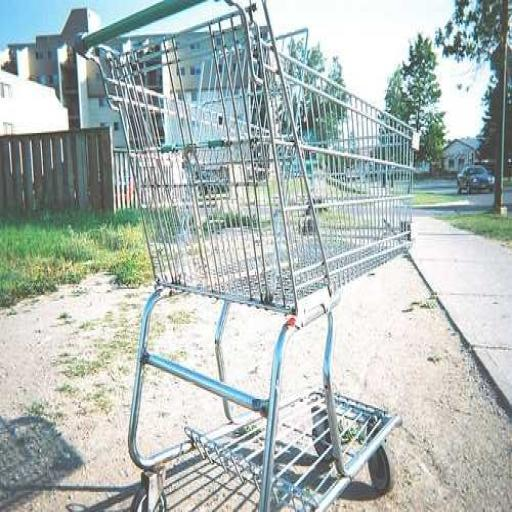shopping_cart: (73, 1, 421, 512)
